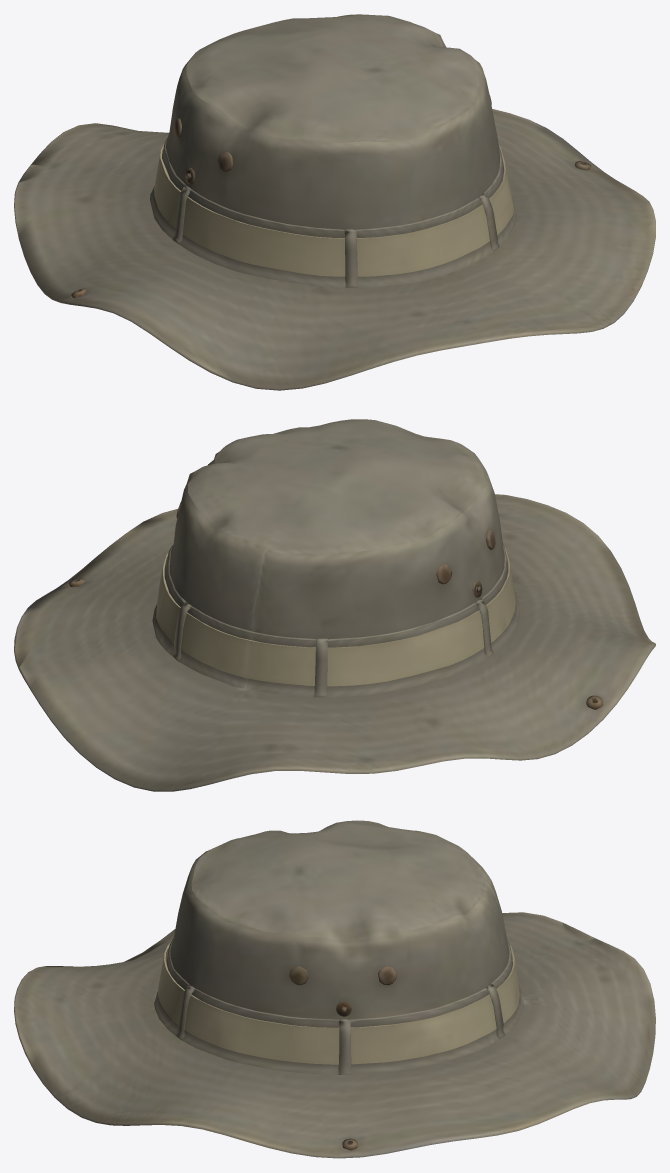
File: fishermans_hat.gltf
3 views of the same model, one above another, from view 1: azimuth 30°, elevation 25°; view 2: azimuth 150°, elevation 25°; view 3: azimuth 270°, elevation 25° (orthographic). The views are drawn at different scales.
Visible parts, largest first — view 1: fishermans_hat; view 2: fishermans_hat; view 3: fishermans_hat.
Part boxes in pixels (box(x1,y1,x2,y2)): fishermans_hat: box(14, 14, 655, 390); fishermans_hat: box(14, 419, 655, 791); fishermans_hat: box(14, 820, 655, 1158).
Bounding box in the file's own units: 0.3236 × 0.124 × 0.35.
1 material, 1 textured.
